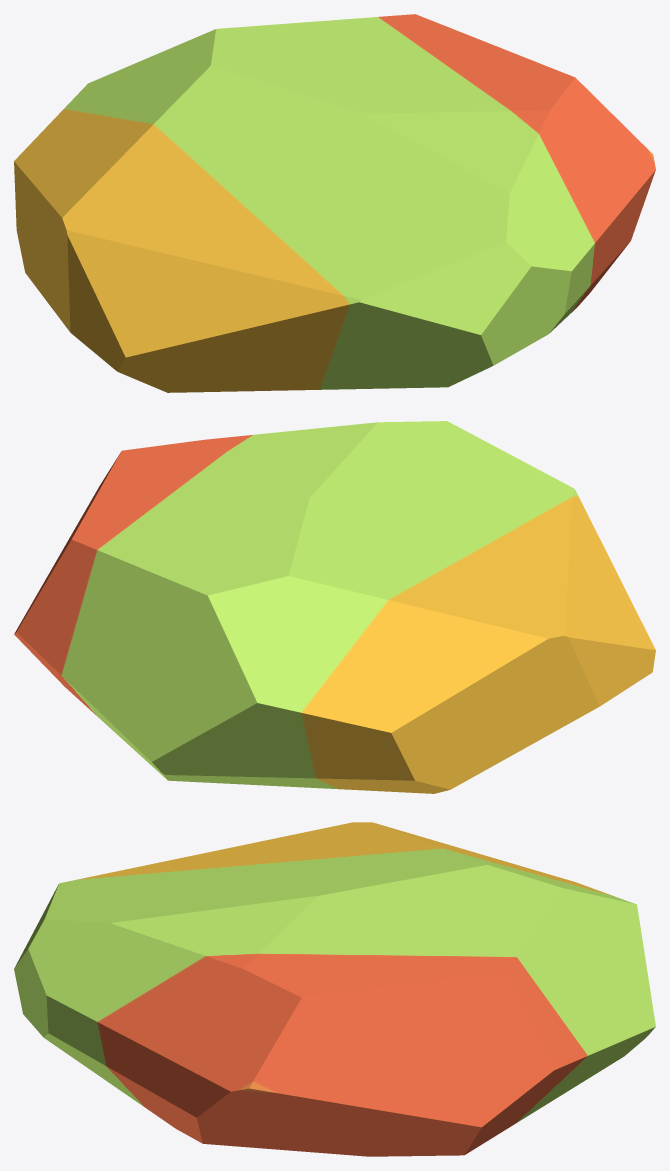
The model's file is rock_7.fbx.
The picture shows the model from 3 angles, top to bottom: view 1: azimuth 30°, elevation 25°; view 2: azimuth 150°, elevation 25°; view 3: azimuth 270°, elevation 25°; orthographic projection. The views are drawn at different scales.
Parts seen in each view (by area): view 1: rock_7; view 2: rock_7; view 3: rock_7.
Boxes of the visible parts, x1=… form: rock_7: x1=14, y1=14, x2=655, y2=392; rock_7: x1=14, y1=421, x2=655, y2=793; rock_7: x1=14, y1=822, x2=655, y2=1156.
Bounding box in the file's own units: 134 × 43.82 × 139.
